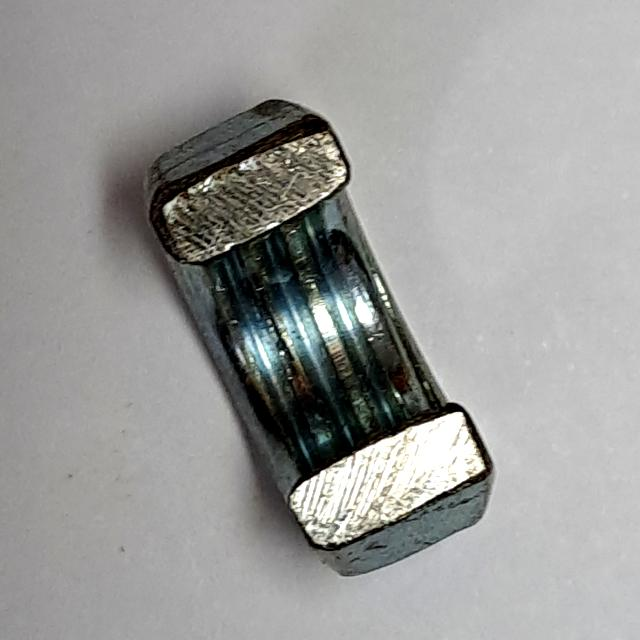Side-Fracture: (126, 72, 507, 593)
